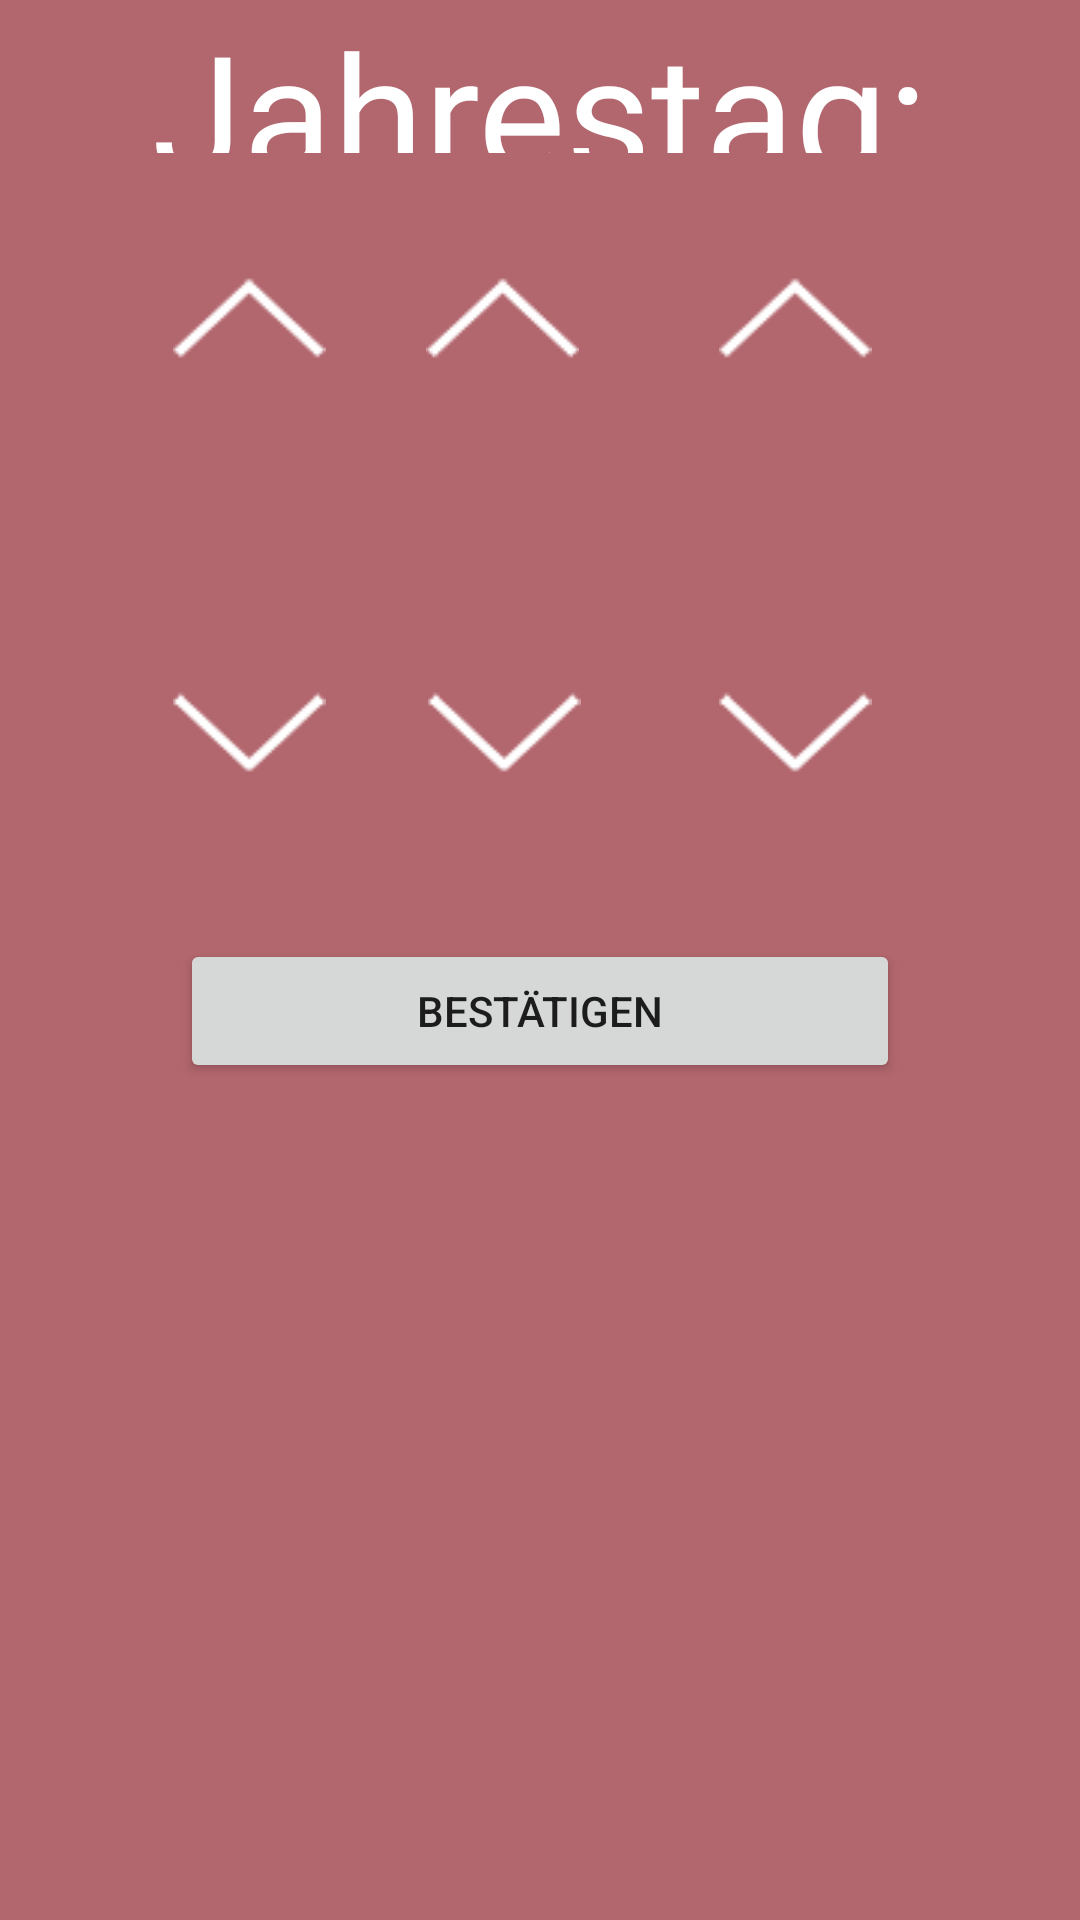

Icon bounding boxes for this 1080w x 1920h phone screenshot, format (x1, y1, x2, y2):
hoch: (173, 278, 326, 358), (426, 278, 579, 358), (719, 278, 872, 358)
runter: (173, 693, 326, 772), (428, 693, 581, 772), (719, 693, 872, 772)
